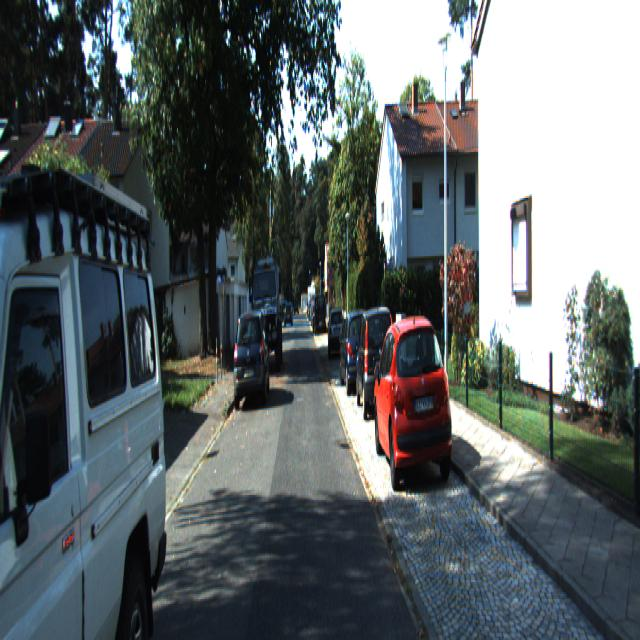Car: (0, 67, 171, 638), (370, 309, 454, 500), (353, 303, 398, 416), (233, 305, 270, 407), (338, 310, 374, 400), (327, 306, 346, 359)
DontCare: (283, 290, 312, 324)
Truck: (251, 252, 283, 364)
Van: (313, 292, 326, 333)
